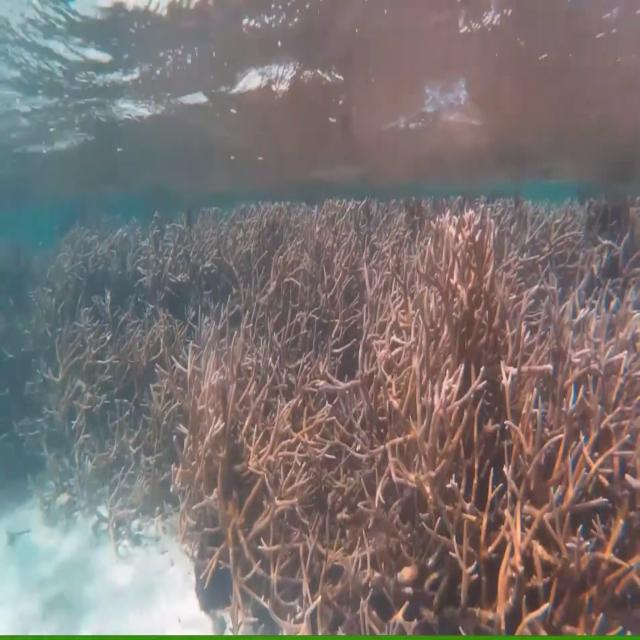Staghorn-Coral -Endangered-: (34, 196, 640, 634)
